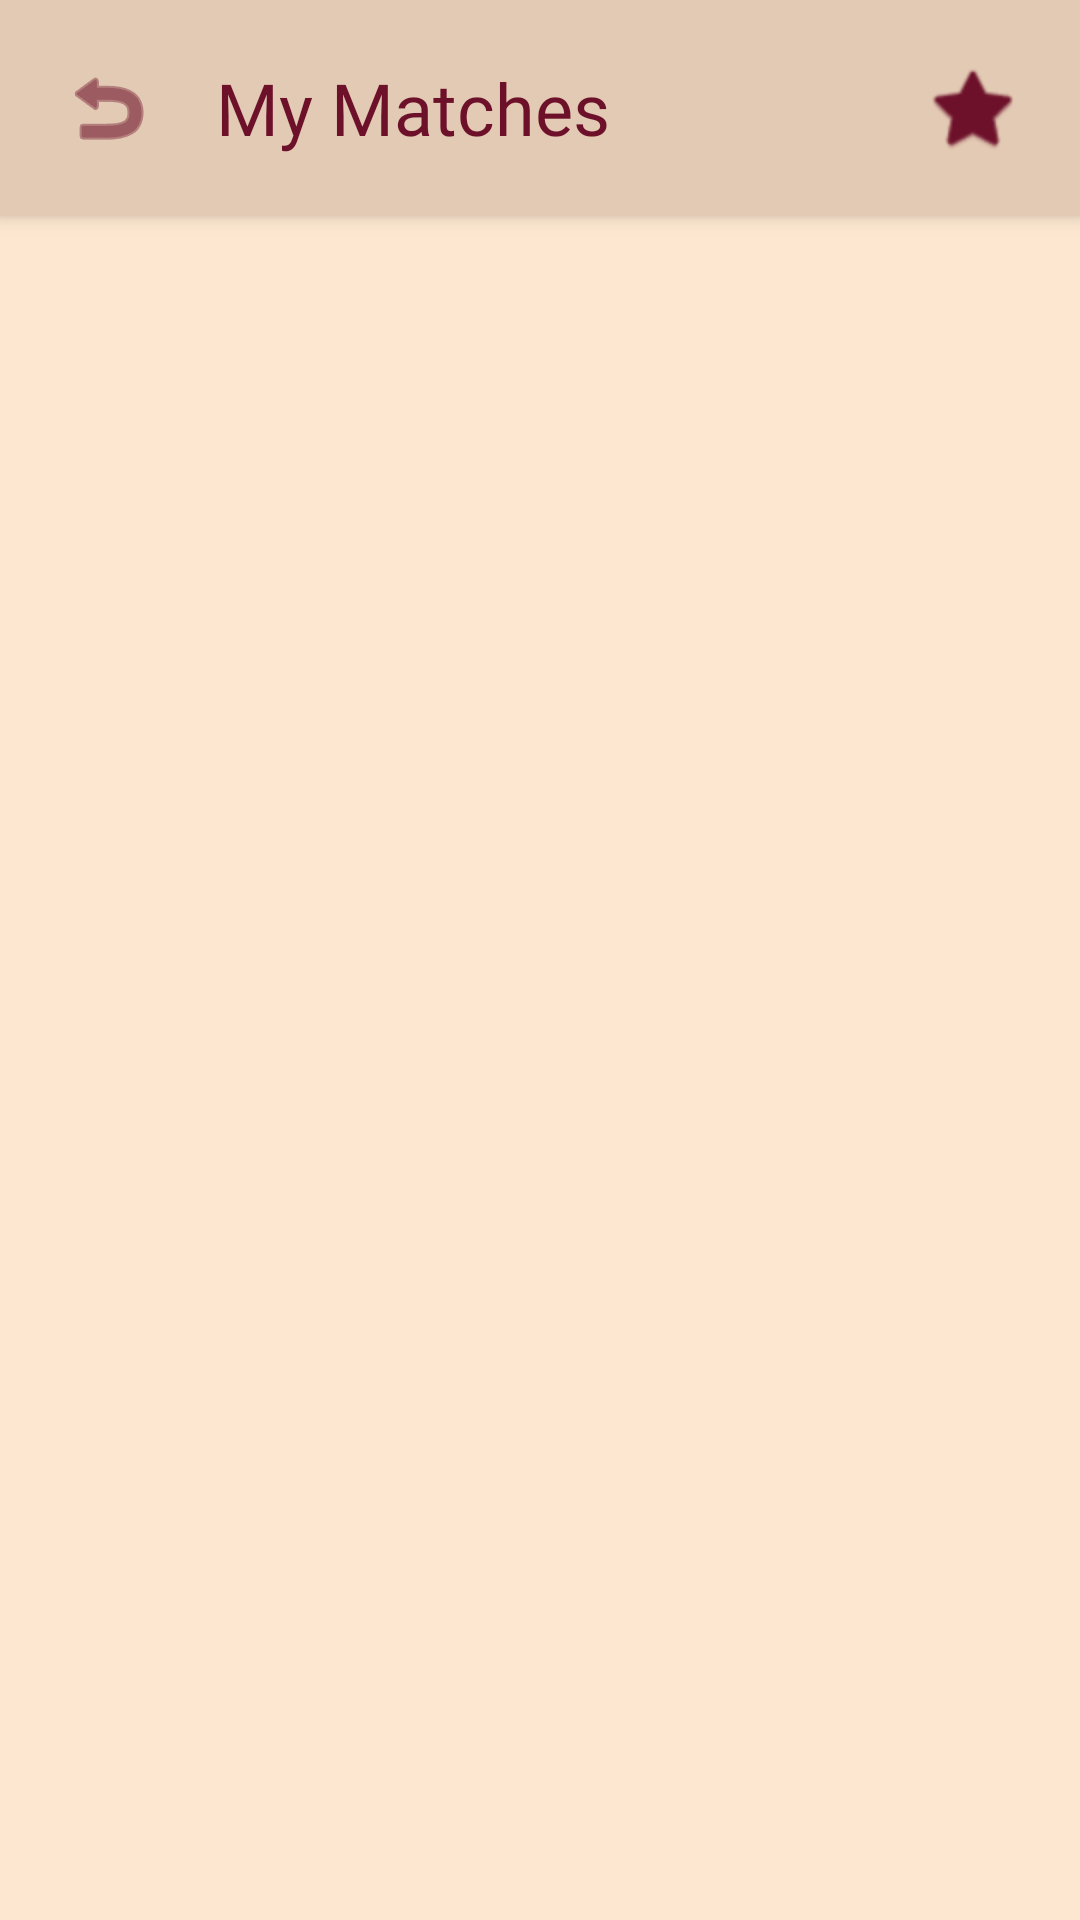

Where to tap for icons on this 1080 x 1920 app screen, as (x,y):
revert: (109,108)
star: (973,108)
